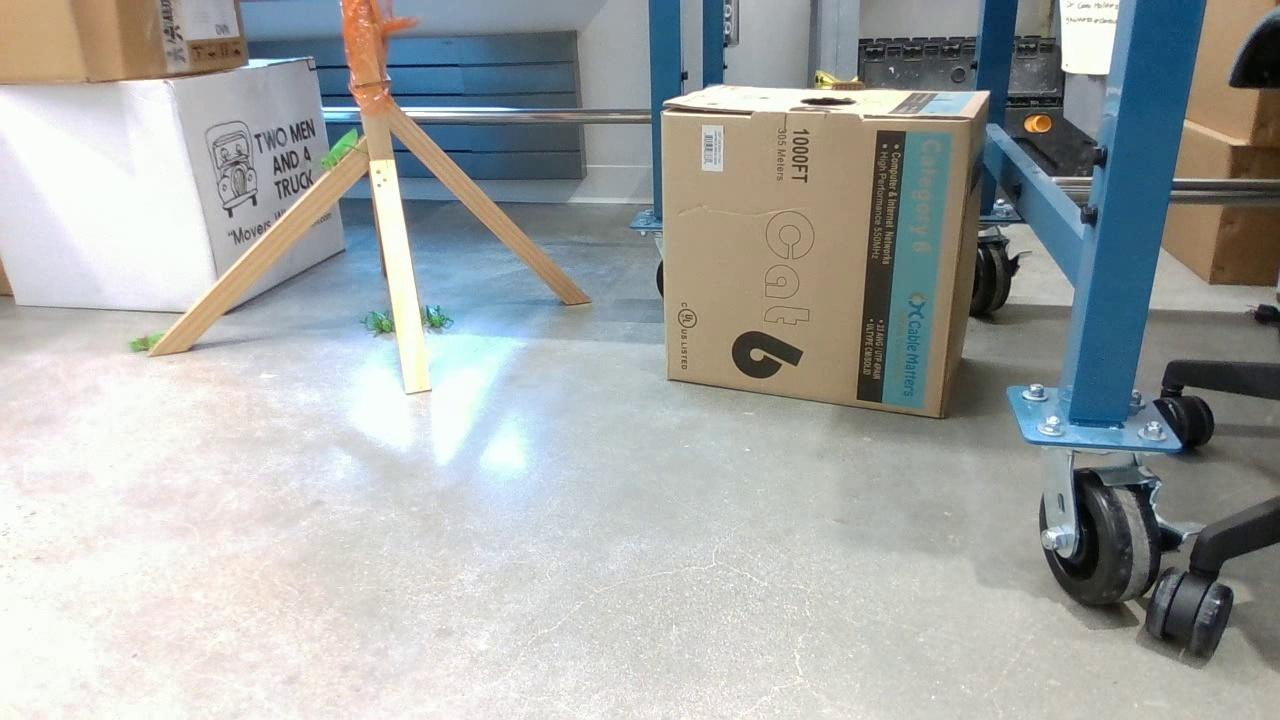grasshopper: (351, 298, 400, 345), (327, 118, 358, 178), (424, 291, 453, 341), (126, 328, 181, 353)
